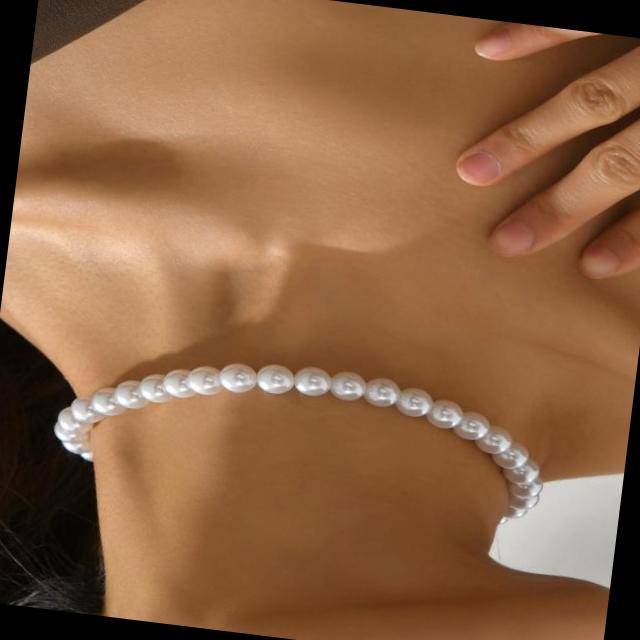Nail: (485, 216, 533, 255), (455, 150, 499, 185), (581, 241, 624, 271), (473, 30, 514, 58)
